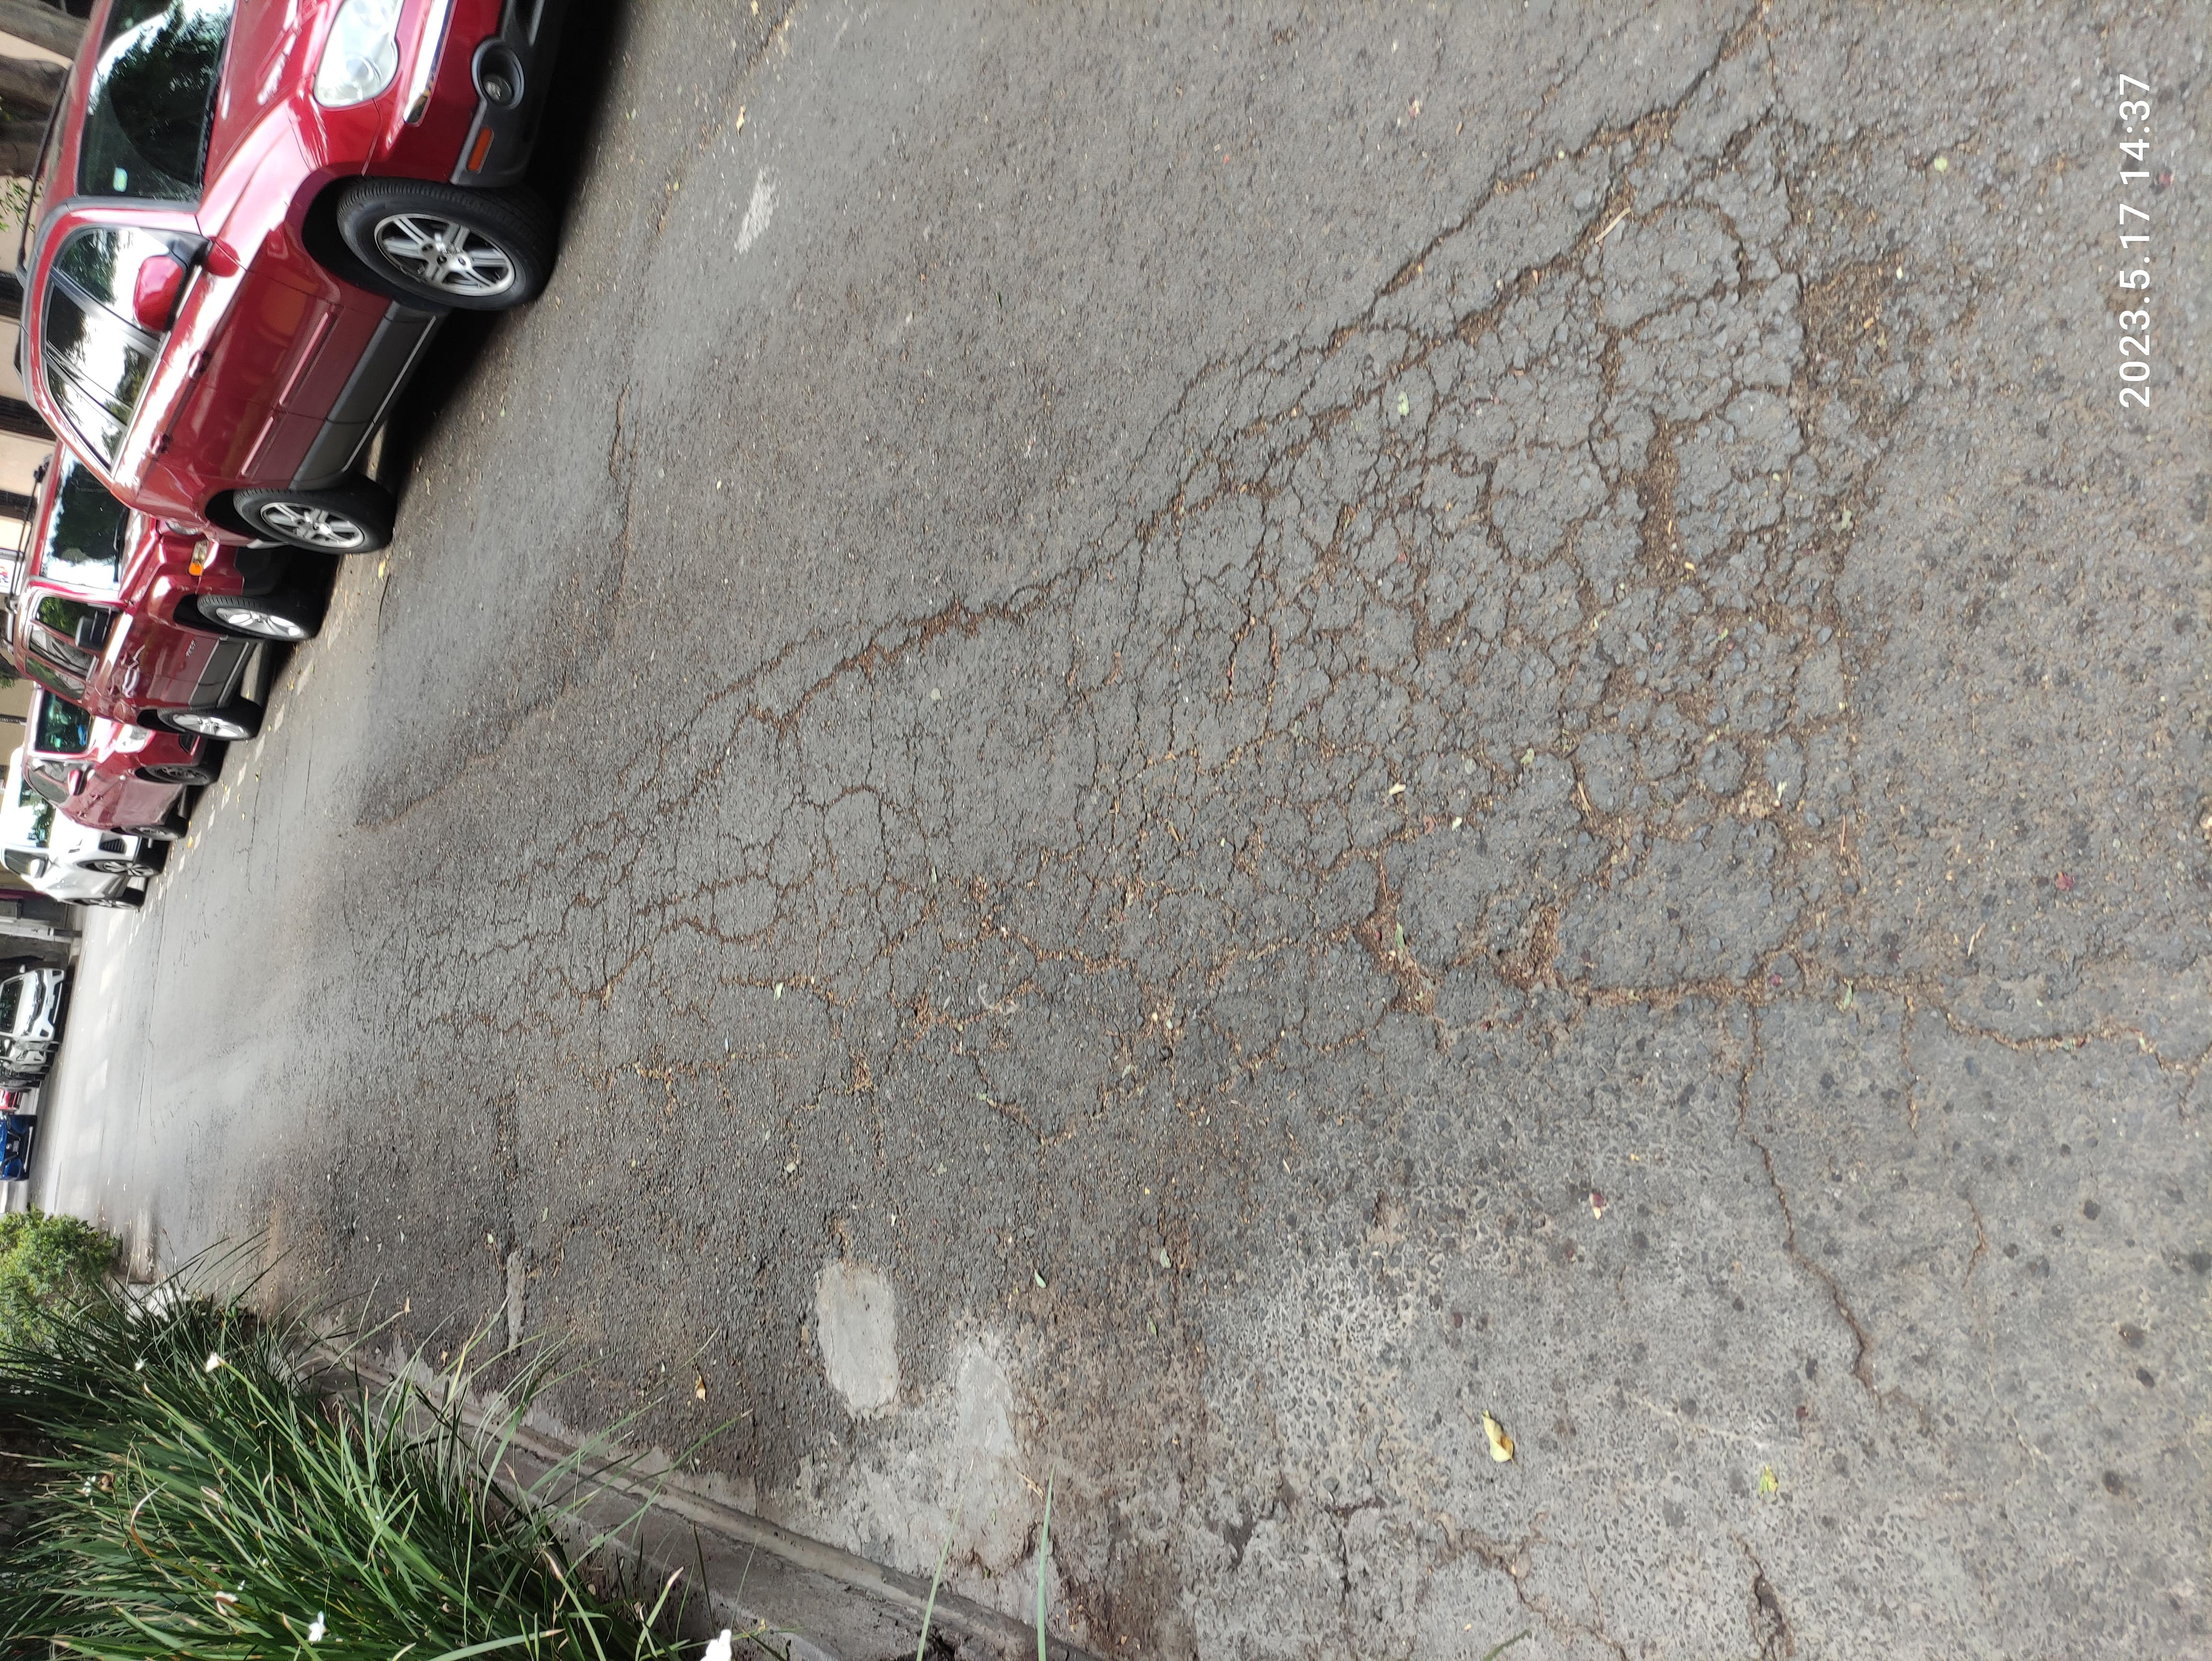alligator-crack: (698, 304, 2013, 1368)
